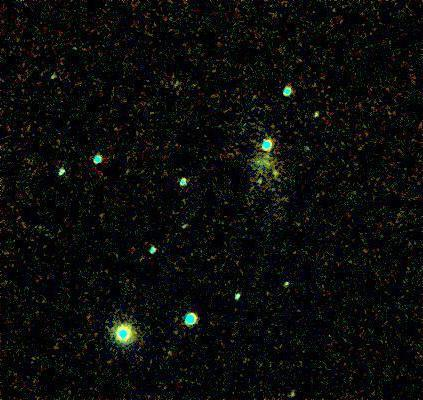star: (261, 158, 291, 188)
